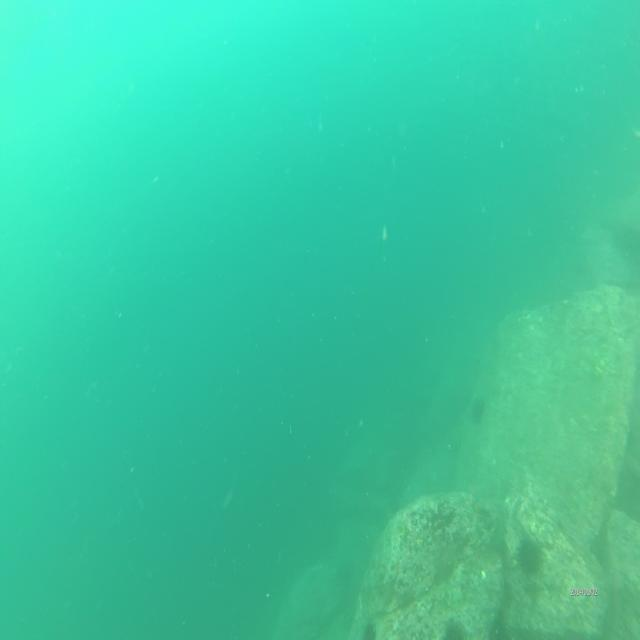echinus: (517, 530, 545, 583), (441, 615, 468, 640), (471, 394, 486, 424), (362, 619, 377, 640)
